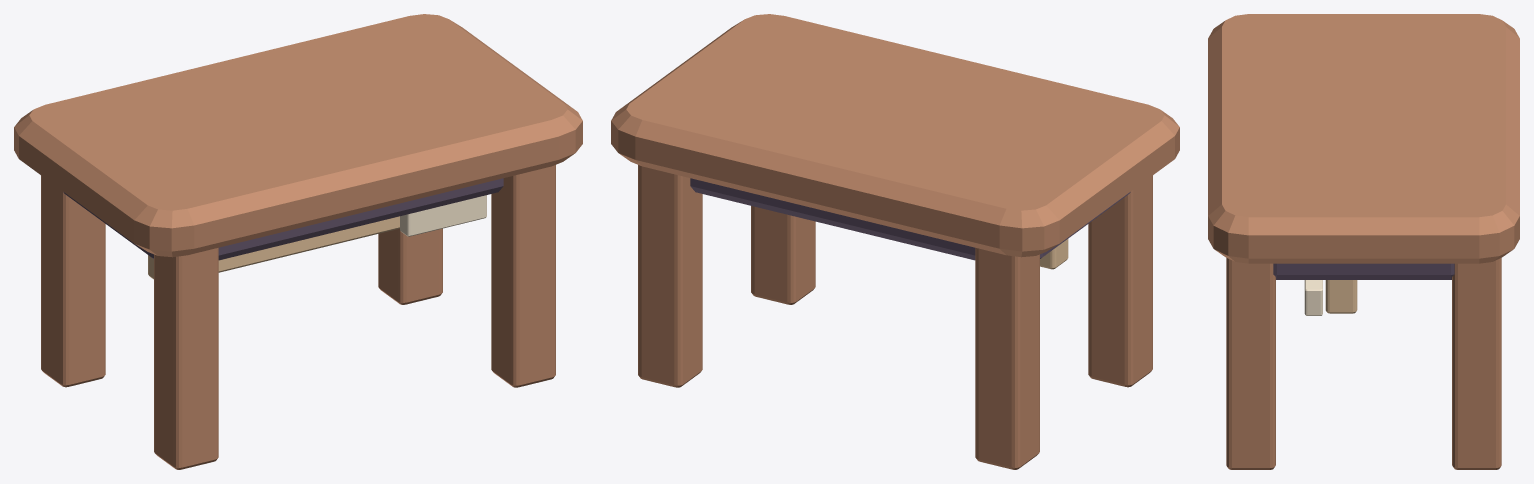
The model's file is school_desk.glb.
The picture shows the model from 3 angles, left to right: view 1: azimuth 30°, elevation 25°; view 2: azimuth 150°, elevation 25°; view 3: azimuth 270°, elevation 25°; orthographic projection.
Visible parts, largest first — view 1: work_surface, leg, model; view 2: work_surface, leg, model; view 3: work_surface, leg, model.
Boxes of the visible parts, x1,y1,x2,y2 form: work_surface: [14, 14, 582, 257]; leg: [41, 165, 555, 469]; model: [63, 178, 503, 279]; work_surface: [611, 14, 1179, 257]; leg: [638, 165, 1152, 469]; model: [690, 178, 1130, 269]; work_surface: [1208, 14, 1519, 263]; leg: [1226, 258, 1501, 469]; model: [1273, 263, 1454, 315].
Bounding box in the file's own units: 1.15 × 0.65 × 0.7.
